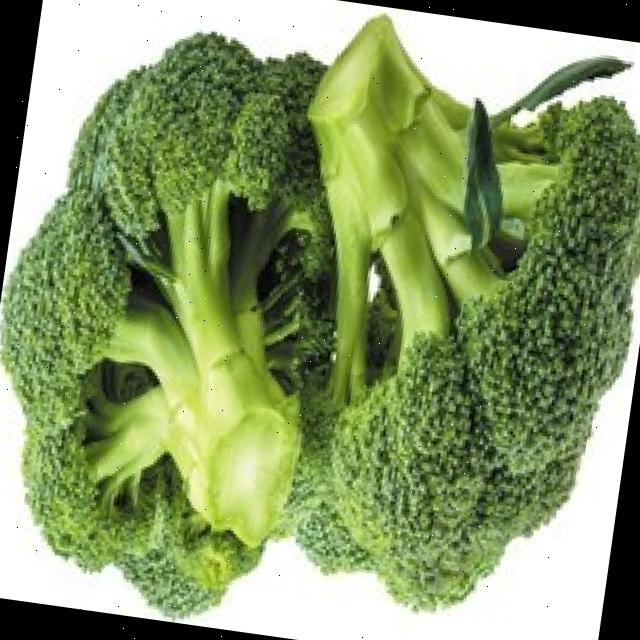Broccoli: (1, 17, 640, 616), (1, 17, 640, 615), (337, 98, 640, 608)
